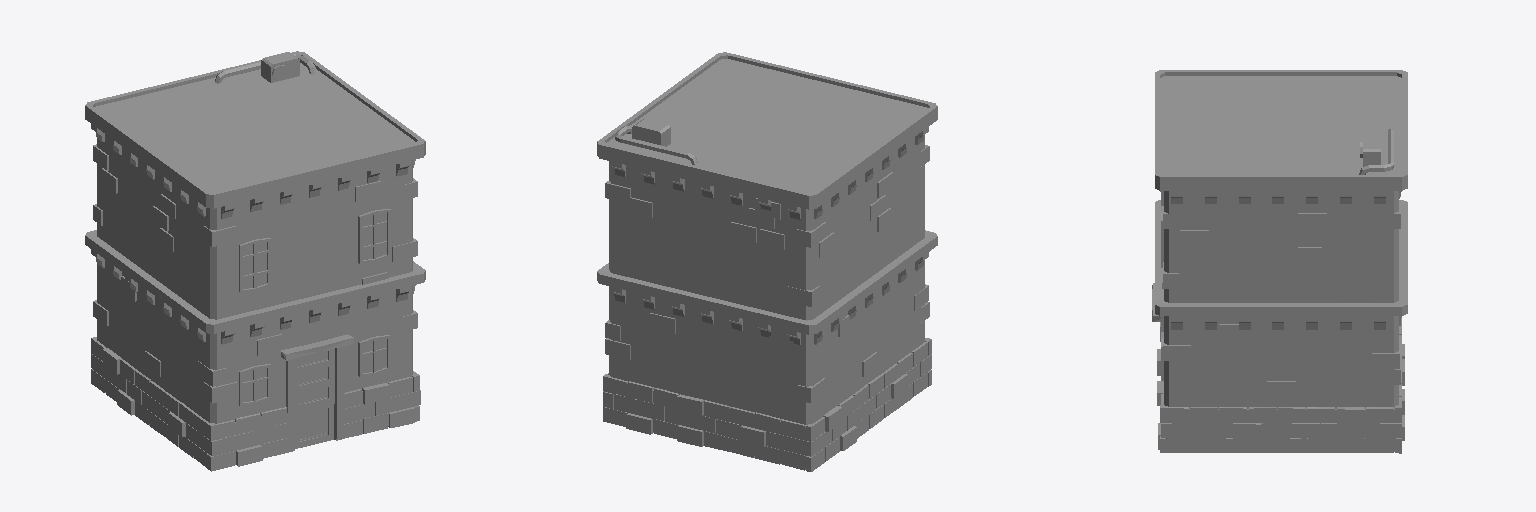
File: 2Story_2.obj
3 renders of one model, left to right at view 1: azimuth 30°, elevation 25°; view 2: azimuth 150°, elevation 25°; view 3: azimuth 270°, elevation 25°, orthographic.
Visible parts, largest first — view 1: 2Story_2_Cube.120; view 2: 2Story_2_Cube.120; view 3: 2Story_2_Cube.120.
Part boxes in pixels (bbox=[...]): 2Story_2_Cube.120: bbox=[85, 51, 425, 471]; 2Story_2_Cube.120: bbox=[597, 52, 937, 471]; 2Story_2_Cube.120: bbox=[1152, 70, 1407, 453].
Bounding box in the file's own units: 2.16 × 2.76 × 2.17.